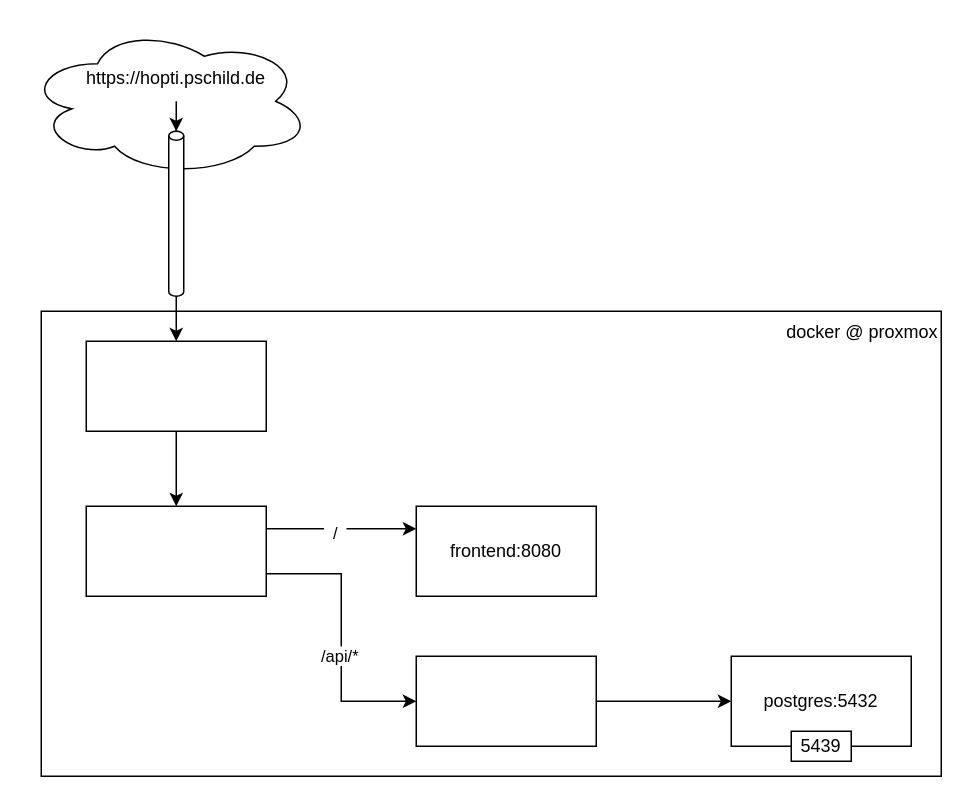
Some shapes in this 968 by 803 pixel diagram are drawn without their labels. Each missing label, with the centre of its shape:
backend:3000: the point at 505,700
cloudflare-tunnel: the point at 175,385
proxy:80: the point at 175,550
